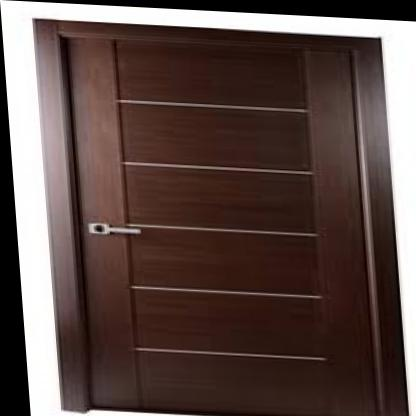door: (37, 18, 394, 415)
